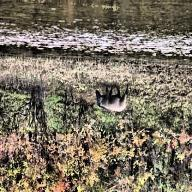boar: (84, 80, 146, 116)
